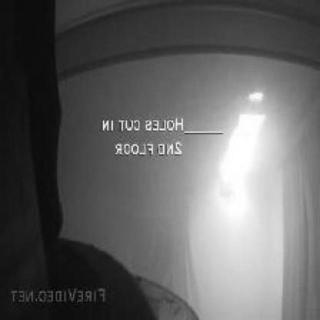Fire: (210, 89, 276, 213)
